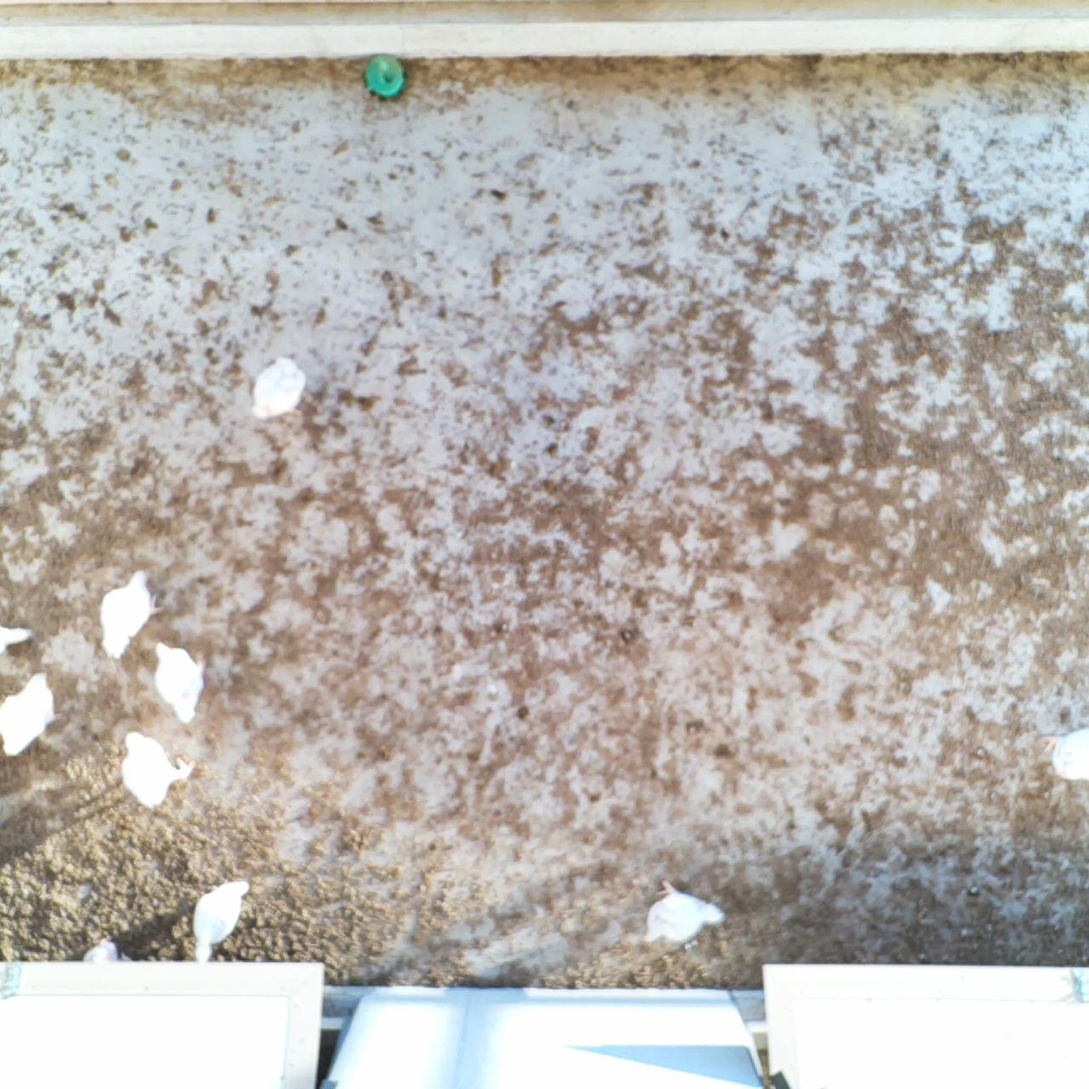chicken: (633, 874, 726, 949), (93, 568, 165, 663), (119, 728, 198, 811), (0, 670, 66, 759), (190, 875, 253, 964), (152, 638, 210, 725), (249, 352, 308, 426), (1035, 717, 1089, 790), (82, 932, 132, 965), (0, 623, 34, 659)
